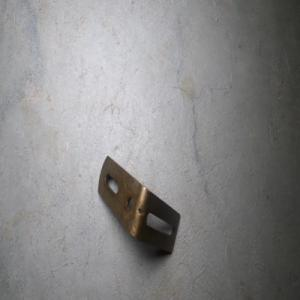MetalPart: (97, 154, 181, 255)
